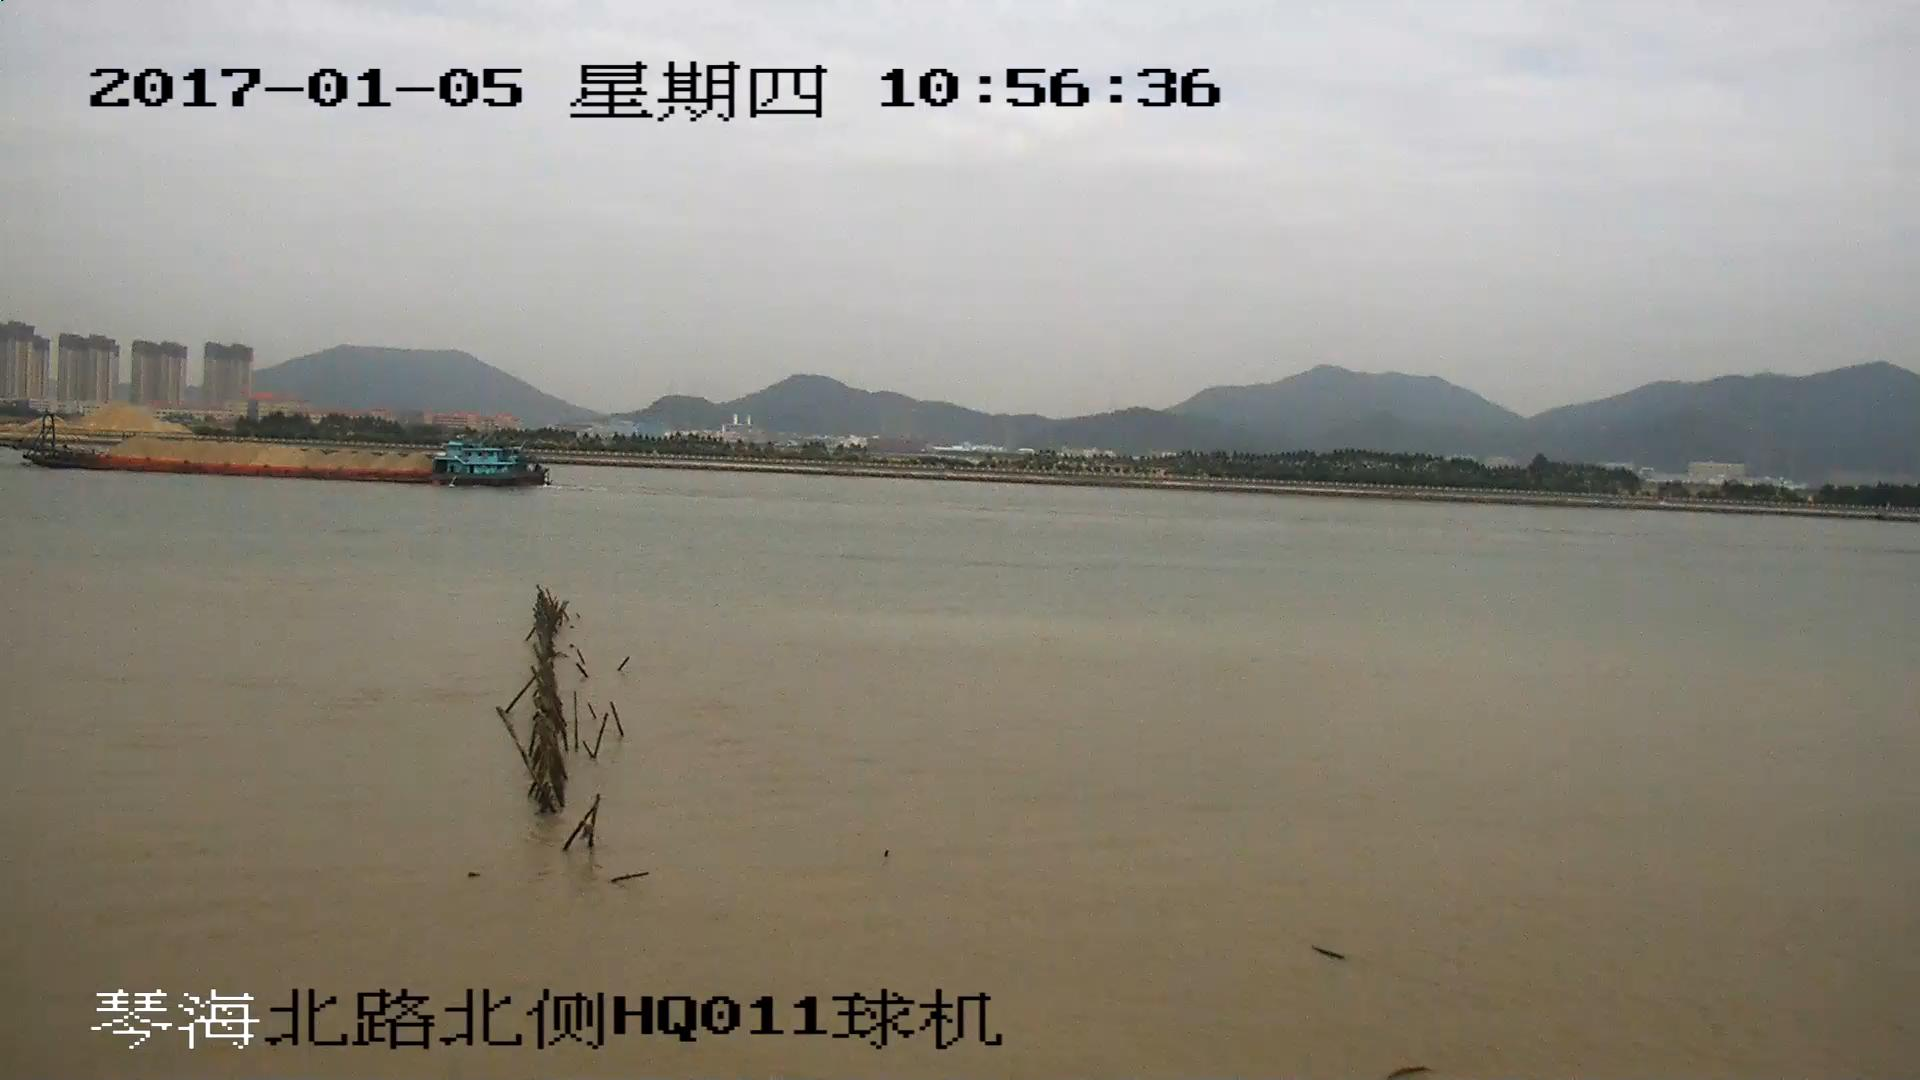ore carrier: (1, 412, 544, 484)
